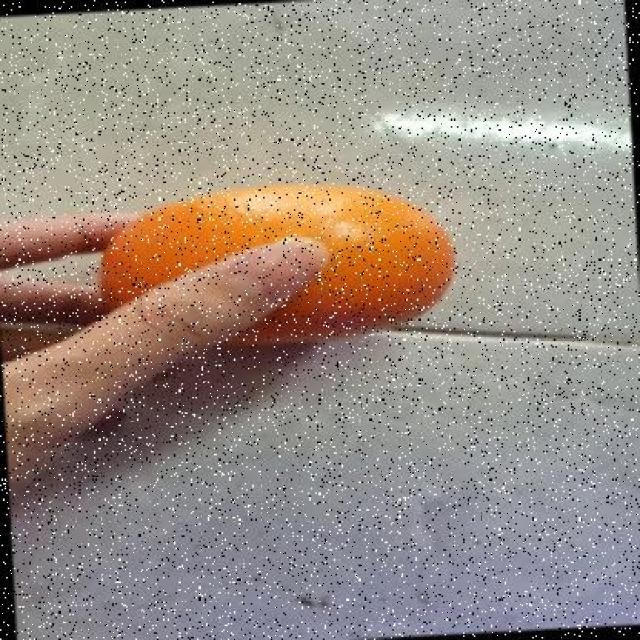Orange: (95, 178, 457, 350)
